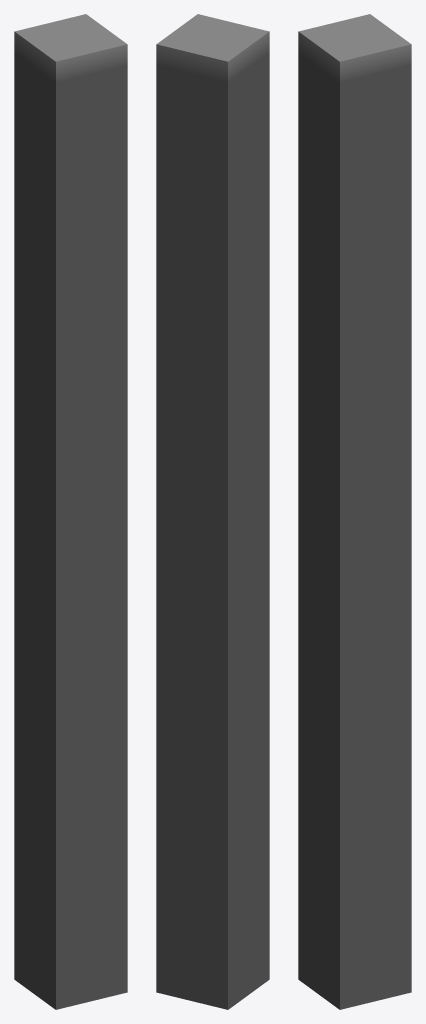
File: SM_RocketScaffolding.fbx
3 views of the same model, side by side, from view 1: azimuth 90°, elevation 25°; view 2: azimuth 210°, elevation 25°; view 3: azimuth 270°, elevation 25° (orthographic).
Visible parts, largest first — view 1: Scaffolding; view 2: Scaffolding; view 3: Scaffolding.
Boxes of the visible parts, x1=… form: Scaffolding: x1=14, y1=14, x2=127, y2=1009; Scaffolding: x1=156, y1=14, x2=269, y2=1009; Scaffolding: x1=298, y1=14, x2=411, y2=1009.
Bounding box in the file's own units: 0.3822 × 3.54 × 0.3822.
Materials: 1 (1 with a texture image).
